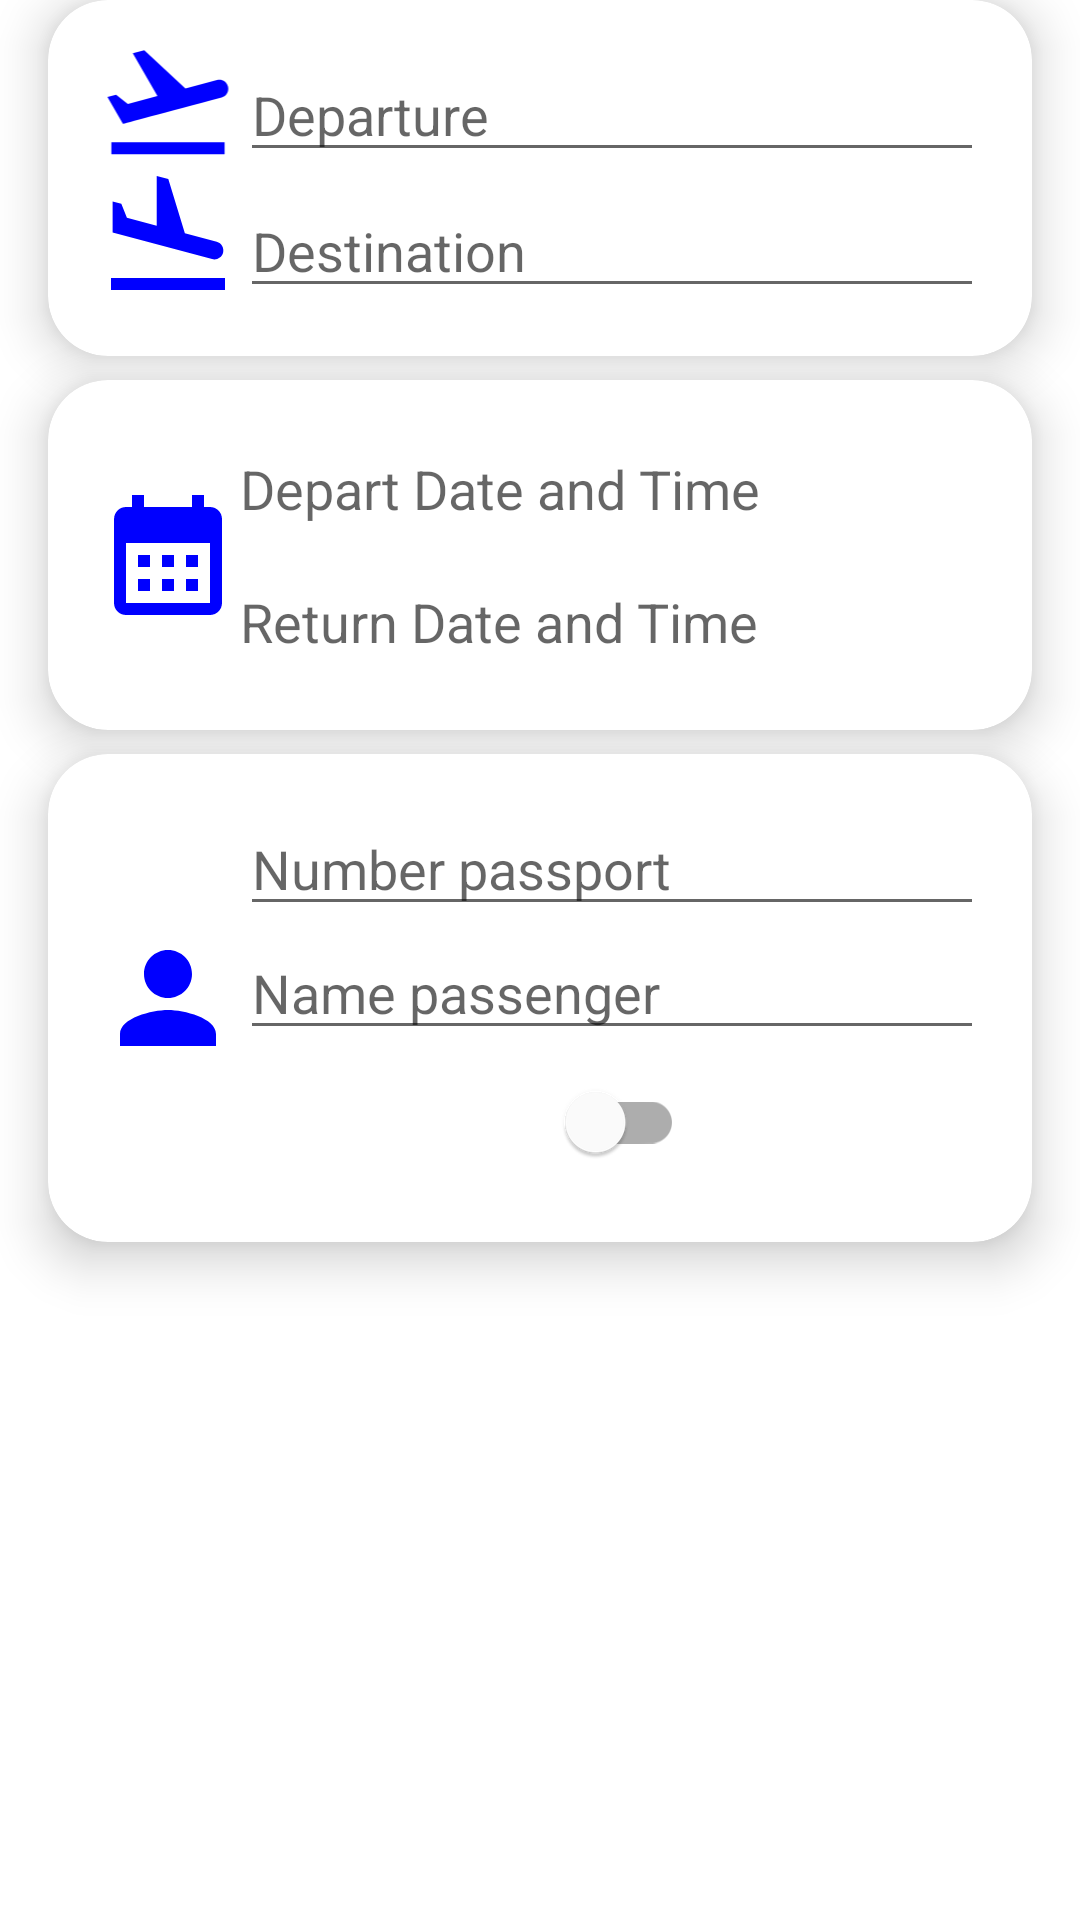

Screen size 1080w x 1920h. Icon name, then its center in pixels as (x,y):
calendar month: (168,555)
flight land: (168,233)
flight takeoff: (168,102)
person: (168,998)
